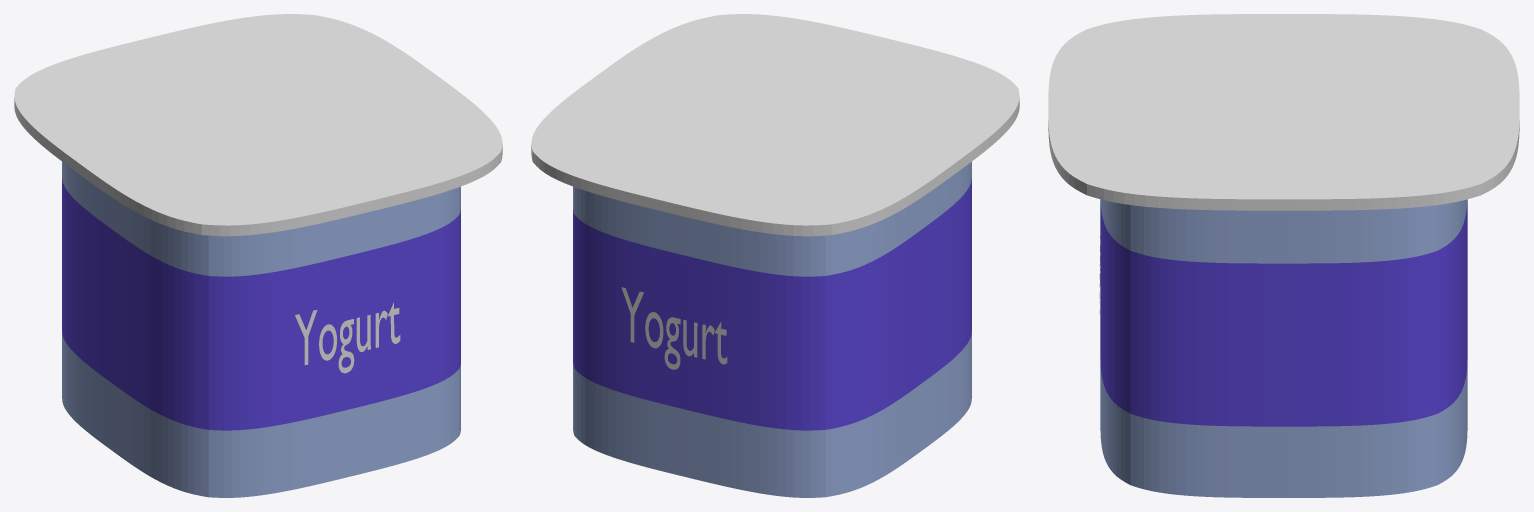
The model's file is Yogurt.glb.
3 renders of one model, left to right at view 1: azimuth 30°, elevation 25°; view 2: azimuth 150°, elevation 25°; view 3: azimuth 270°, elevation 25°, orthographic. The views are drawn at different scales.
Visible parts, largest first — view 1: Plane.001, Plane.002, Plane, Text; view 2: Plane.001, Plane.002, Plane, Text.001; view 3: Plane.001, Plane.002, Plane.
Boxes of the visible parts, x1=… form: Plane.001: x1=14, y1=14, x2=502, y2=236; Plane.002: x1=62, y1=178, x2=460, y2=430; Plane: x1=62, y1=161, x2=460, y2=497; Text: x1=295, y1=302, x2=400, y2=373; Plane.001: x1=531, y1=14, x2=1019, y2=236; Plane.002: x1=573, y1=178, x2=971, y2=430; Plane: x1=573, y1=161, x2=971, y2=497; Text.001: x1=621, y1=287, x2=727, y2=369; Plane.001: x1=1048, y1=14, x2=1519, y2=210; Plane.002: x1=1100, y1=199, x2=1467, y2=426; Plane: x1=1100, y1=199, x2=1467, y2=497.
Bounding box in the file's own units: 2.39 × 1.88 × 2.57.
